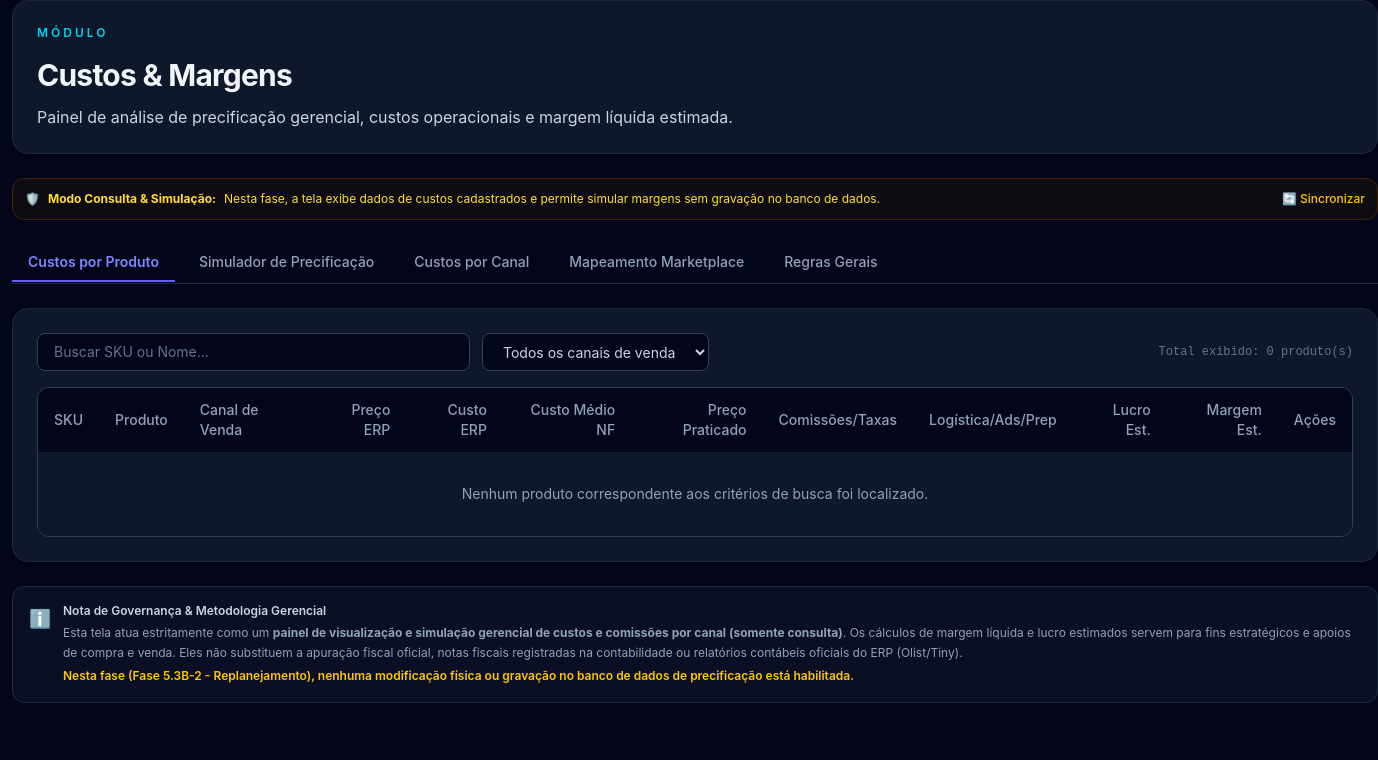
Test: CustosMargem - Simulador Mercado Livre (Fase 5.5L-6G.4) › 8. deve garantir que o simulador padrao continua funcionando
Click the button "Simulador de Precificação".
click(287, 263)  # box [183,244,390,282]
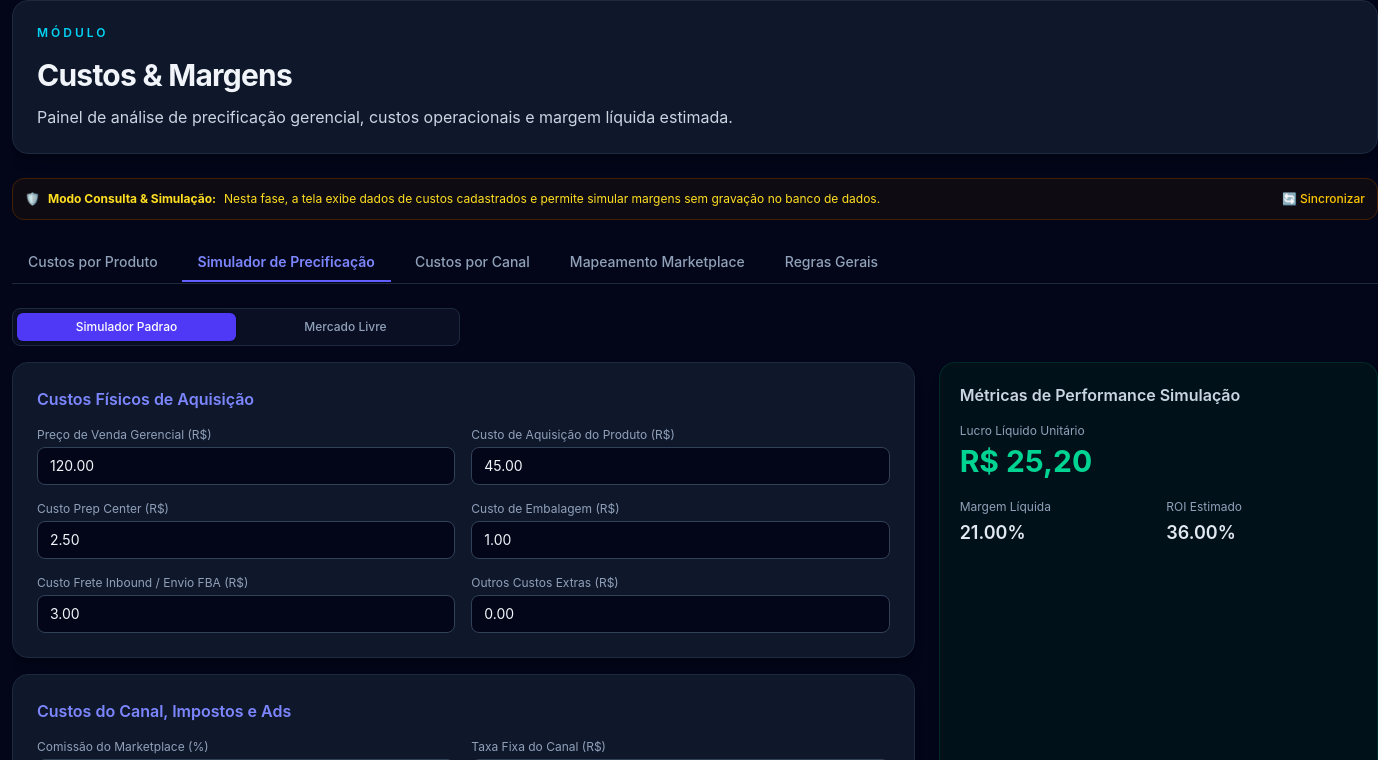
Expected: the heading "Custos Físicos de Aquisição" is shown, [37,389,254,409]
Expected: the heading "Custos do Canal, Impostos e Ads" is shown, [37,701,291,721]
Expected: the heading "Métricas de Performance Simulação" is shown, [960,385,1240,405]
